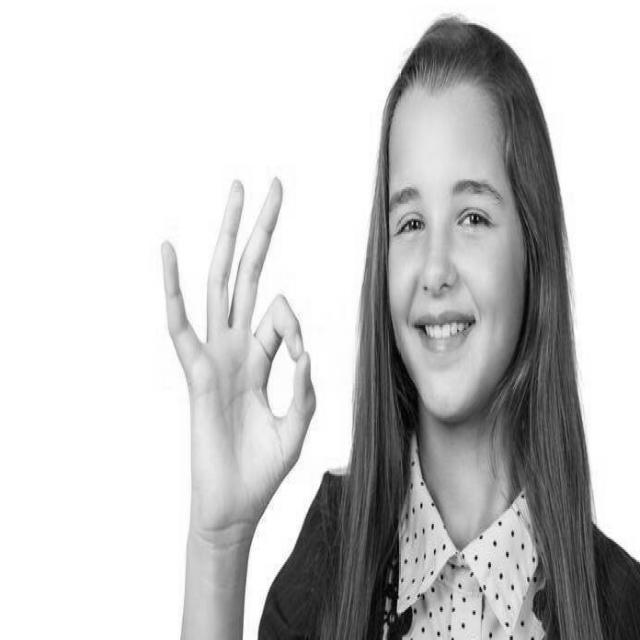perfect: (157, 167, 321, 560)
